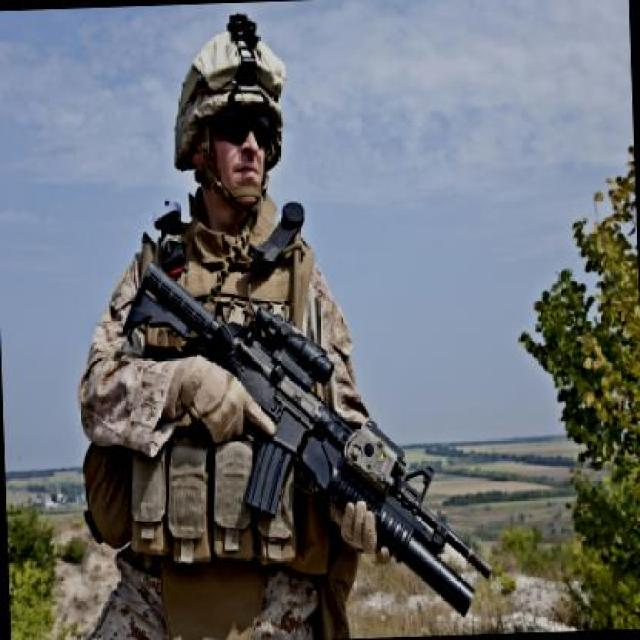MIL_Pax: (62, 21, 390, 638)
